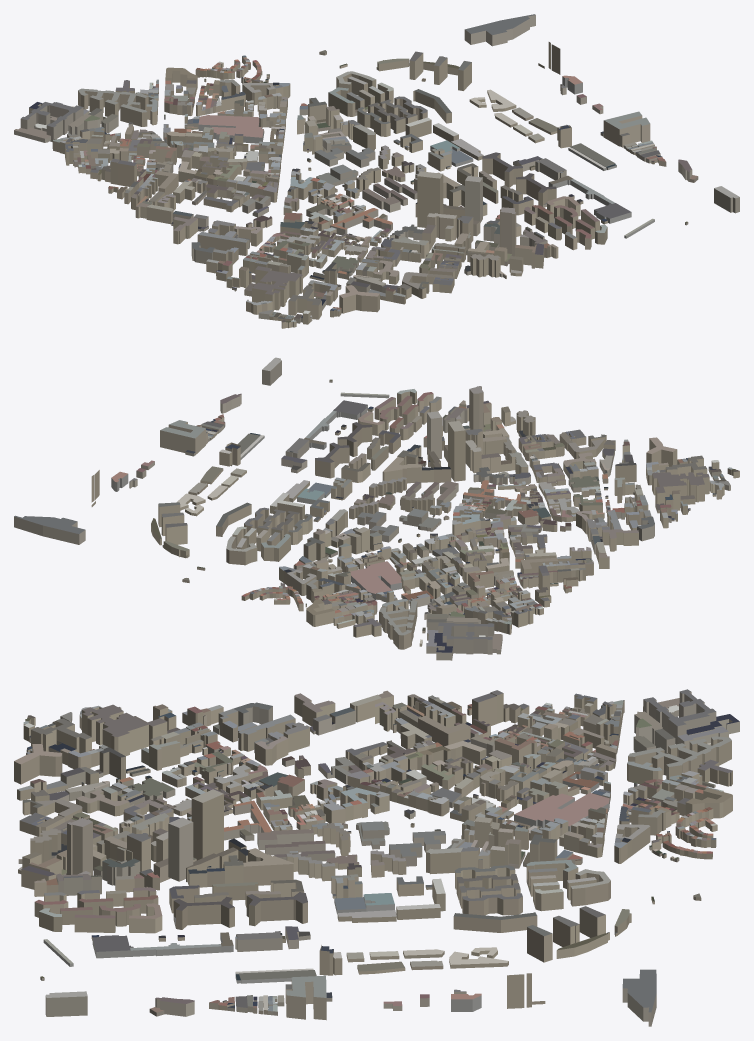
3 views of the same model, one above another, from view 1: azimuth 30°, elevation 25°; view 2: azimuth 150°, elevation 25°; view 3: azimuth 270°, elevation 25° (orthographic). The views are drawn at different scales.
Parts seen in each view (by area): view 1: tuile; view 2: tuile; view 3: tuile.
Part boxes in pixels (x1,y1,x2,y2): tuile: [14, 14, 739, 328]; tuile: [14, 357, 739, 660]; tuile: [14, 689, 739, 1026].
Size of the model in its own units: 1094 by 110 by 1054.
